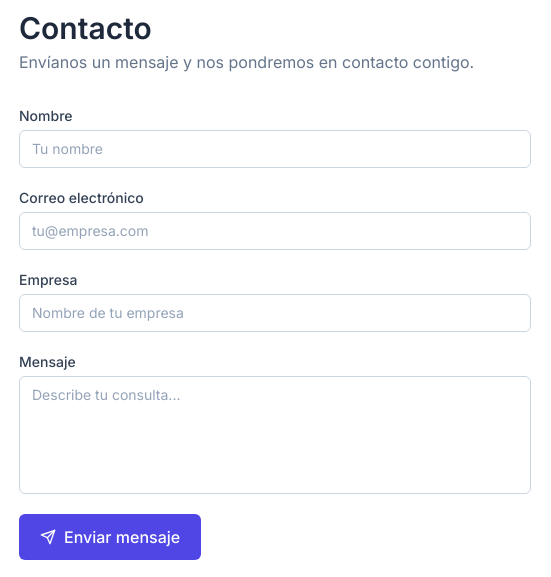
Scenario: ContactPage › muestra mensaje de éxito al enviar correctamente
The width and height of the screenshot is (551, 577).
Type "Ana" into the field labelled "Nombre" at (275, 149), box top-left (19, 130), bottom-right (531, 168)
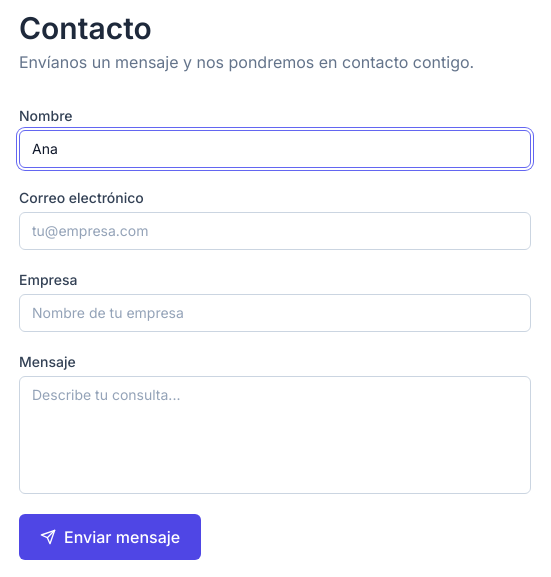
Type "ana@empresa.com" into the field labelled "Correo electrónico" at (275, 231), box top-left (19, 212), bottom-right (531, 250)
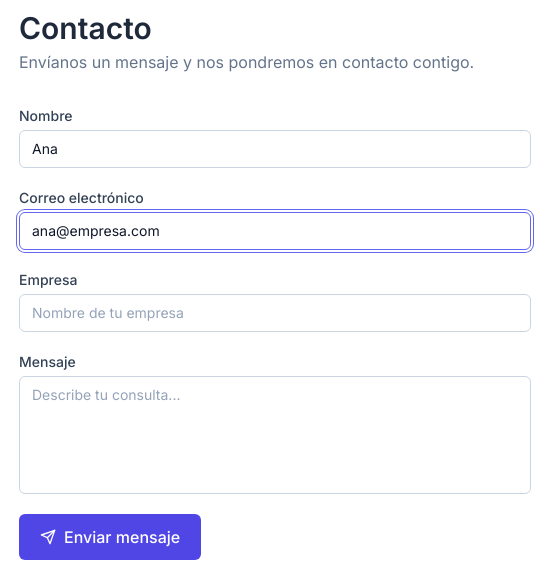
Type "Quiero información" into the text box with placeholder "Describe tu consulta..." at (275, 435), box top-left (19, 376), bottom-right (531, 494)
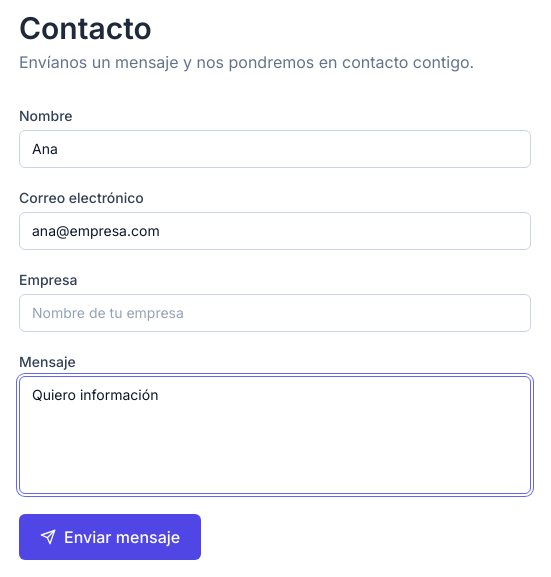
Click the button "Enviar mensaje" at (110, 537), box top-left (19, 514), bottom-right (201, 560)
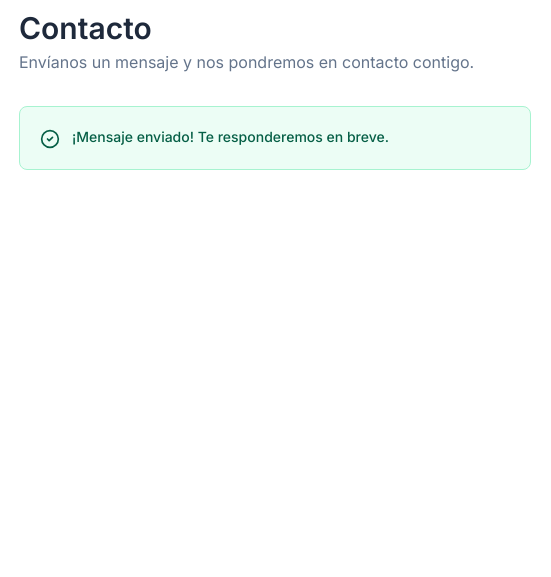
Expected: the text "¡Mensaje enviado! Te responderemos en breve." is shown, top-left (72, 127), bottom-right (389, 147)
